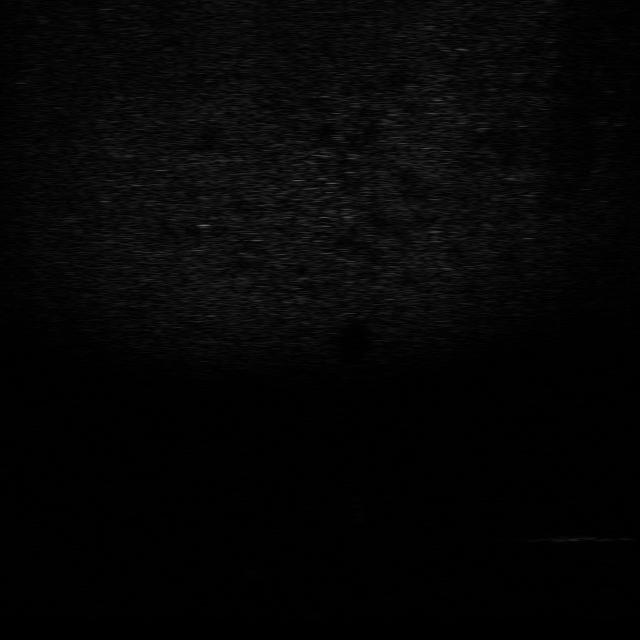ball: (338, 478, 378, 504)
metal bucket: (519, 528, 615, 546)
tyre: (238, 553, 288, 585)
